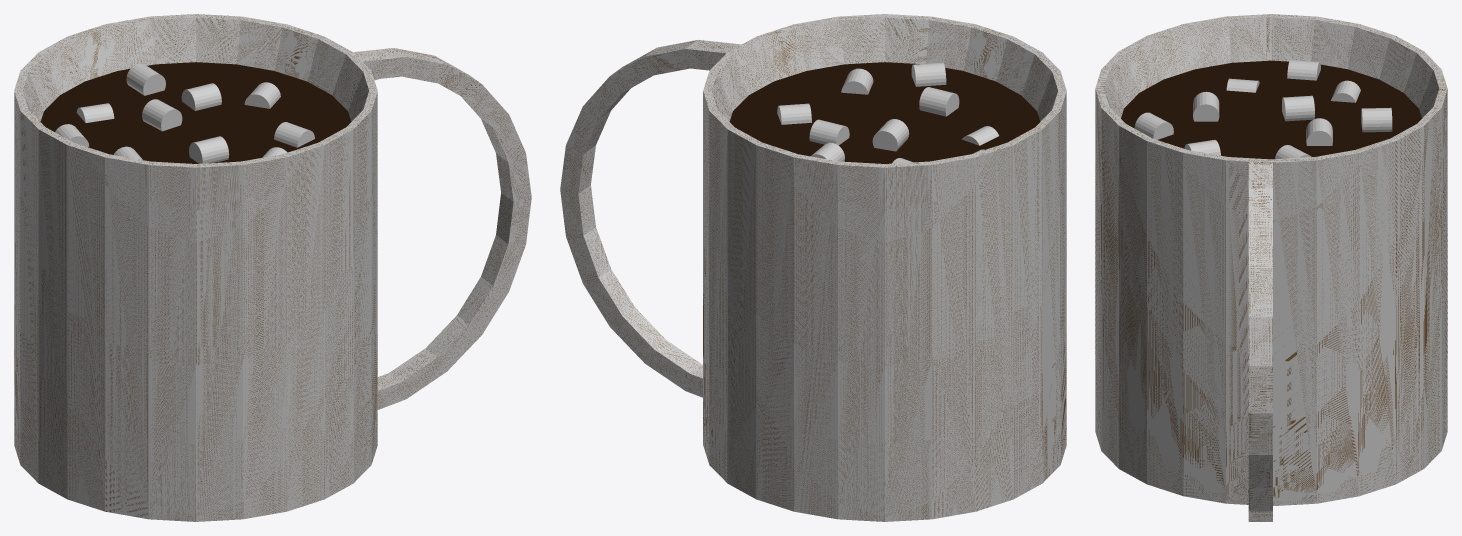
3 renders of one model, left to right at view 1: azimuth 30°, elevation 25°; view 2: azimuth 150°, elevation 25°; view 3: azimuth 270°, elevation 25°, orthographic. The views are drawn at different scales.
Parts seen in each view (by area): view 1: mesh34_mesh34-geometry, mesh43_mesh43-geometry, mesh45_mesh45-geometry, mesh35_mesh35-geometry, mesh36_mesh36-geometry, mesh38_mesh38-geometry, mesh39_mesh39-geometry; view 2: mesh34_mesh34-geometry, mesh35_mesh35-geometry, mesh43_mesh43-geometry, mesh36_mesh36-geometry, mesh42_mesh42-geometry, mesh39_mesh39-geometry, mesh38_mesh38-geometry; view 3: mesh34_mesh34-geometry, mesh43_mesh43-geometry, mesh45_mesh45-geometry, mesh35_mesh35-geometry, mesh42_mesh42-geometry, mesh36_mesh36-geometry, mesh44_mesh44-geometry, mesh40_mesh40-geometry.
Part boxes in pixels (x1,y1,x2,y2): mesh34_mesh34-geometry: (14,14,531,521); mesh43_mesh43-geometry: (142,99,182,131); mesh45_mesh45-geometry: (126,63,165,95); mesh35_mesh35-geometry: (189,136,229,163); mesh36_mesh36-geometry: (181,83,221,110); mesh38_mesh38-geometry: (274,122,314,147); mesh39_mesh39-geometry: (244,82,280,108); mesh34_mesh34-geometry: (560,14,1066,521); mesh35_mesh35-geometry: (919,87,959,116); mesh43_mesh43-geometry: (872,119,909,151); mesh36_mesh36-geometry: (809,119,849,145); mesh42_mesh42-geometry: (911,62,946,86); mesh39_mesh39-geometry: (777,103,811,124); mesh38_mesh38-geometry: (841,68,873,94); mesh34_mesh34-geometry: (1095,14,1447,521); mesh43_mesh43-geometry: (1282,95,1314,121); mesh45_mesh45-geometry: (1361,107,1392,132); mesh35_mesh35-geometry: (1193,91,1219,121); mesh42_mesh42-geometry: (1134,112,1173,139); mesh36_mesh36-geometry: (1306,118,1332,145); mesh44_mesh44-geometry: (1287,60,1320,80); mesh40_mesh40-geometry: (1331,80,1360,102).
Bounding box in the file's own units: 0.7213 × 0.5071 × 0.4717.
